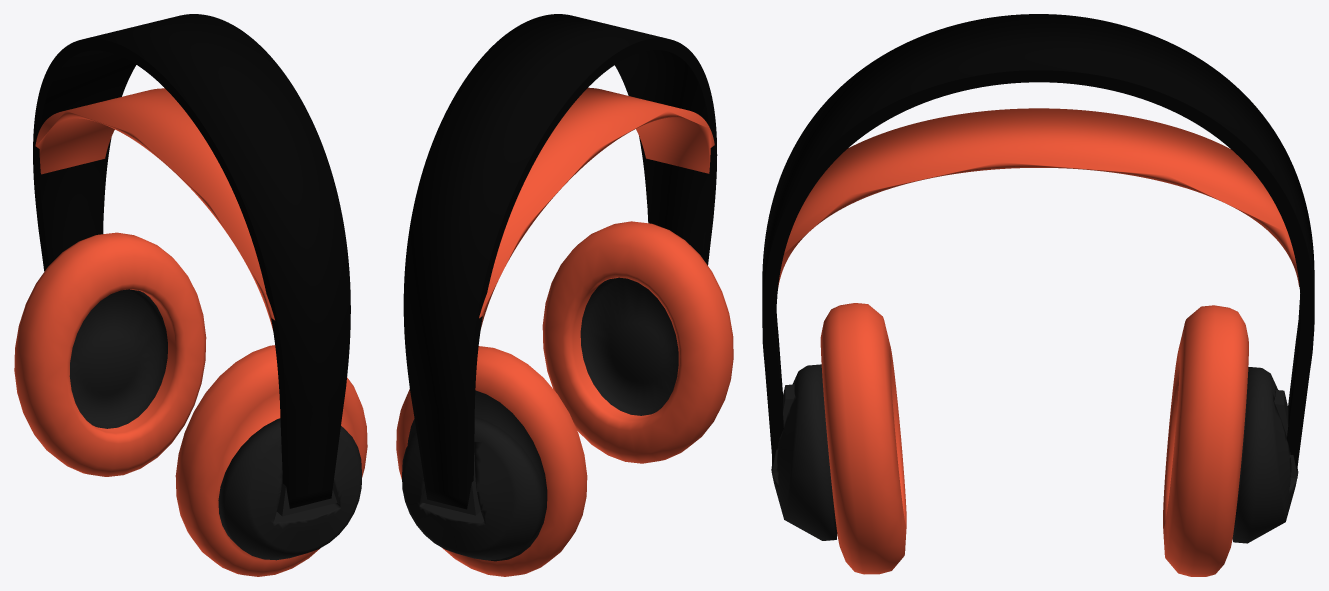
3 renders of one model, left to right at view 1: azimuth 30°, elevation 25°; view 2: azimuth 150°, elevation 25°; view 3: azimuth 270°, elevation 25°, orthographic. The views are drawn at different scales.
Parts seen in each view (by area): view 1: Headphones; view 2: Headphones; view 3: Headphones.
Part boxes in pixels (left/top/right/bottom): Headphones: left=14, top=14, right=367, bottom=576; Headphones: left=396, top=14, right=733, bottom=576; Headphones: left=762, top=14, right=1314, bottom=576.
Bounding box in the file's own units: 8.2 × 20.01 × 18.9.
